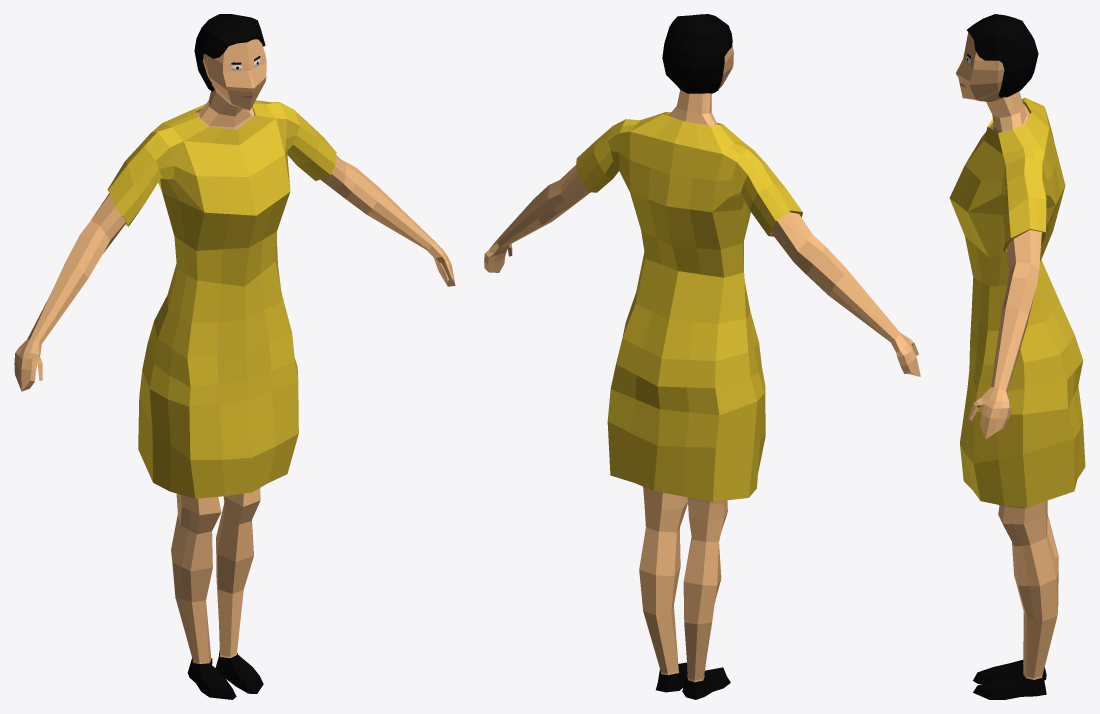
File: YoungWomenNpc.fbx
3 views of the same model, side by side, from view 1: azimuth 30°, elevation 25°; view 2: azimuth 150°, elevation 25°; view 3: azimuth 270°, elevation 25° (orthographic).
Parts seen in each view (by area): view 1: WomanBody; view 2: WomanBody; view 3: WomanBody.
Boxes of the visible parts, x1=… form: WomanBody: x1=14, y1=14, x2=455, y2=699; WomanBody: x1=484, y1=14, x2=920, y2=699; WomanBody: x1=949, y1=14, x2=1085, y2=699.
Bounding box in the file's own units: 388 × 573 × 105.
